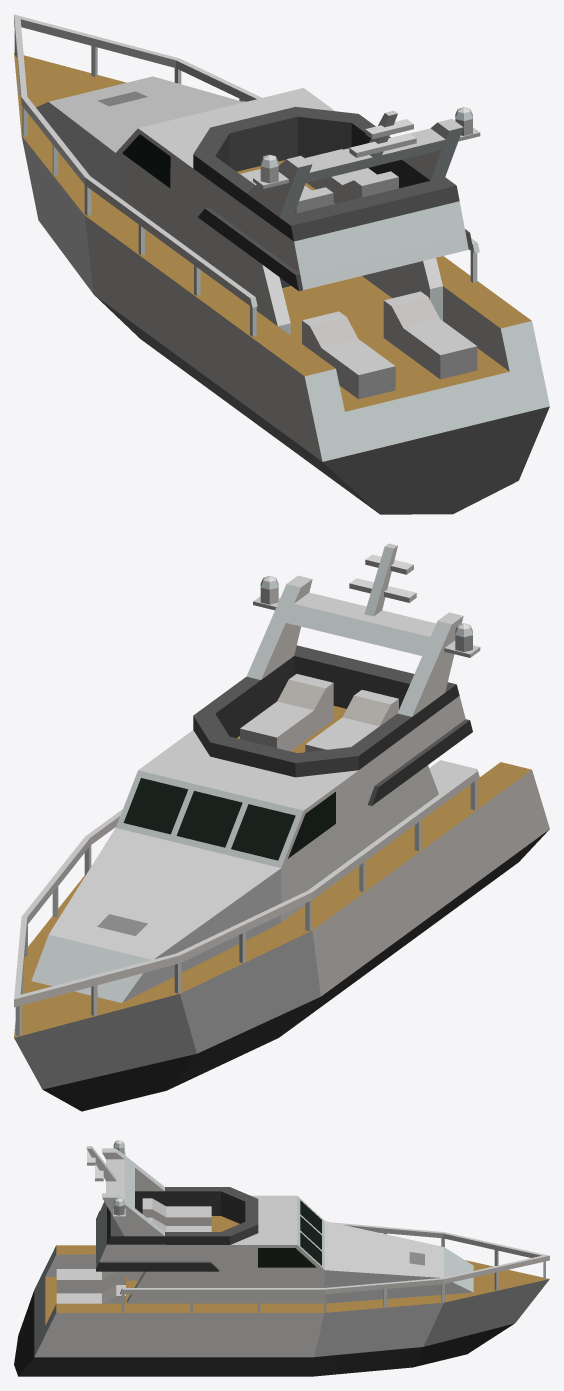
File: youting_01.FBX
The picture shows the model from 3 angles, top to bottom: view 1: azimuth 30°, elevation 25°; view 2: azimuth 150°, elevation 25°; view 3: azimuth 270°, elevation 25°; orthographic projection. The views are drawn at different scales.
Parts seen in each view (by area): view 1: youting_01; view 2: youting_01; view 3: youting_01.
Part boxes in pixels (bbox=[...]): youting_01: bbox=[14, 14, 549, 514]; youting_01: bbox=[14, 543, 549, 1111]; youting_01: bbox=[14, 1140, 549, 1376].
Size of the model in its own units: 207 by 310 by 693.
